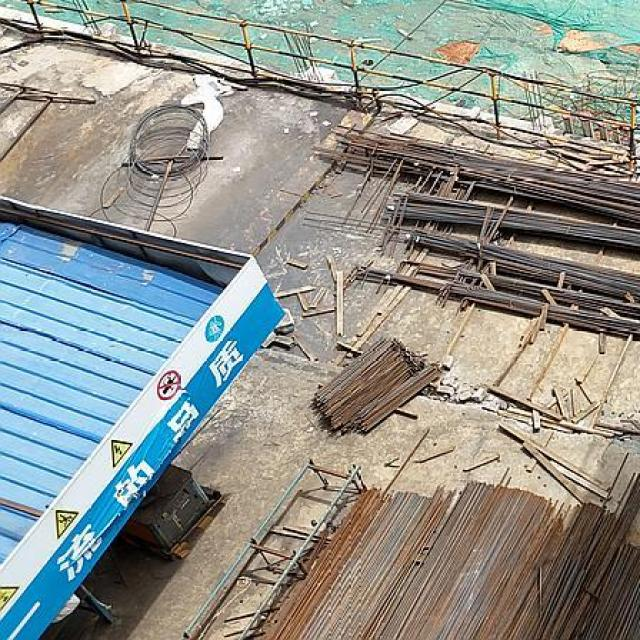edge_guardrail: (23, 0, 640, 171)
